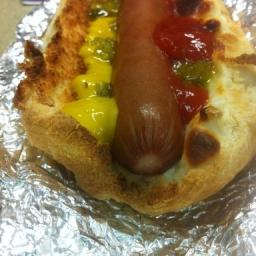hotdog: (114, 2, 186, 179)
